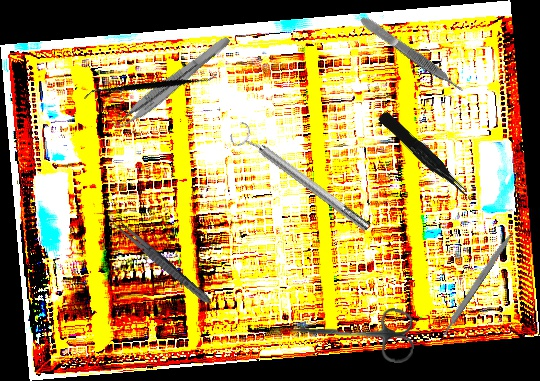Dressing Forceps: (109, 216, 215, 308)
Fixation Ring: (226, 118, 376, 240)
Iris Scissors: (289, 304, 415, 364)
Scalpel Handle: (438, 229, 515, 339)
Spatula Surgical: (83, 23, 218, 150)
Tissue Forceps: (109, 28, 233, 137), (358, 13, 466, 97), (377, 107, 470, 202)
